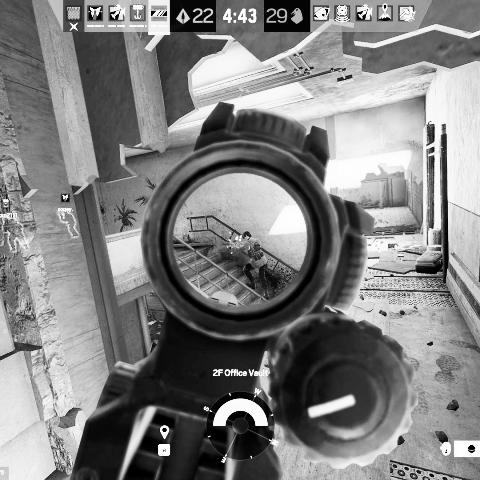Character: (223, 230, 270, 300)
Friend_label: (0, 198, 19, 219), (57, 192, 74, 212)
Head: (243, 231, 251, 240)
